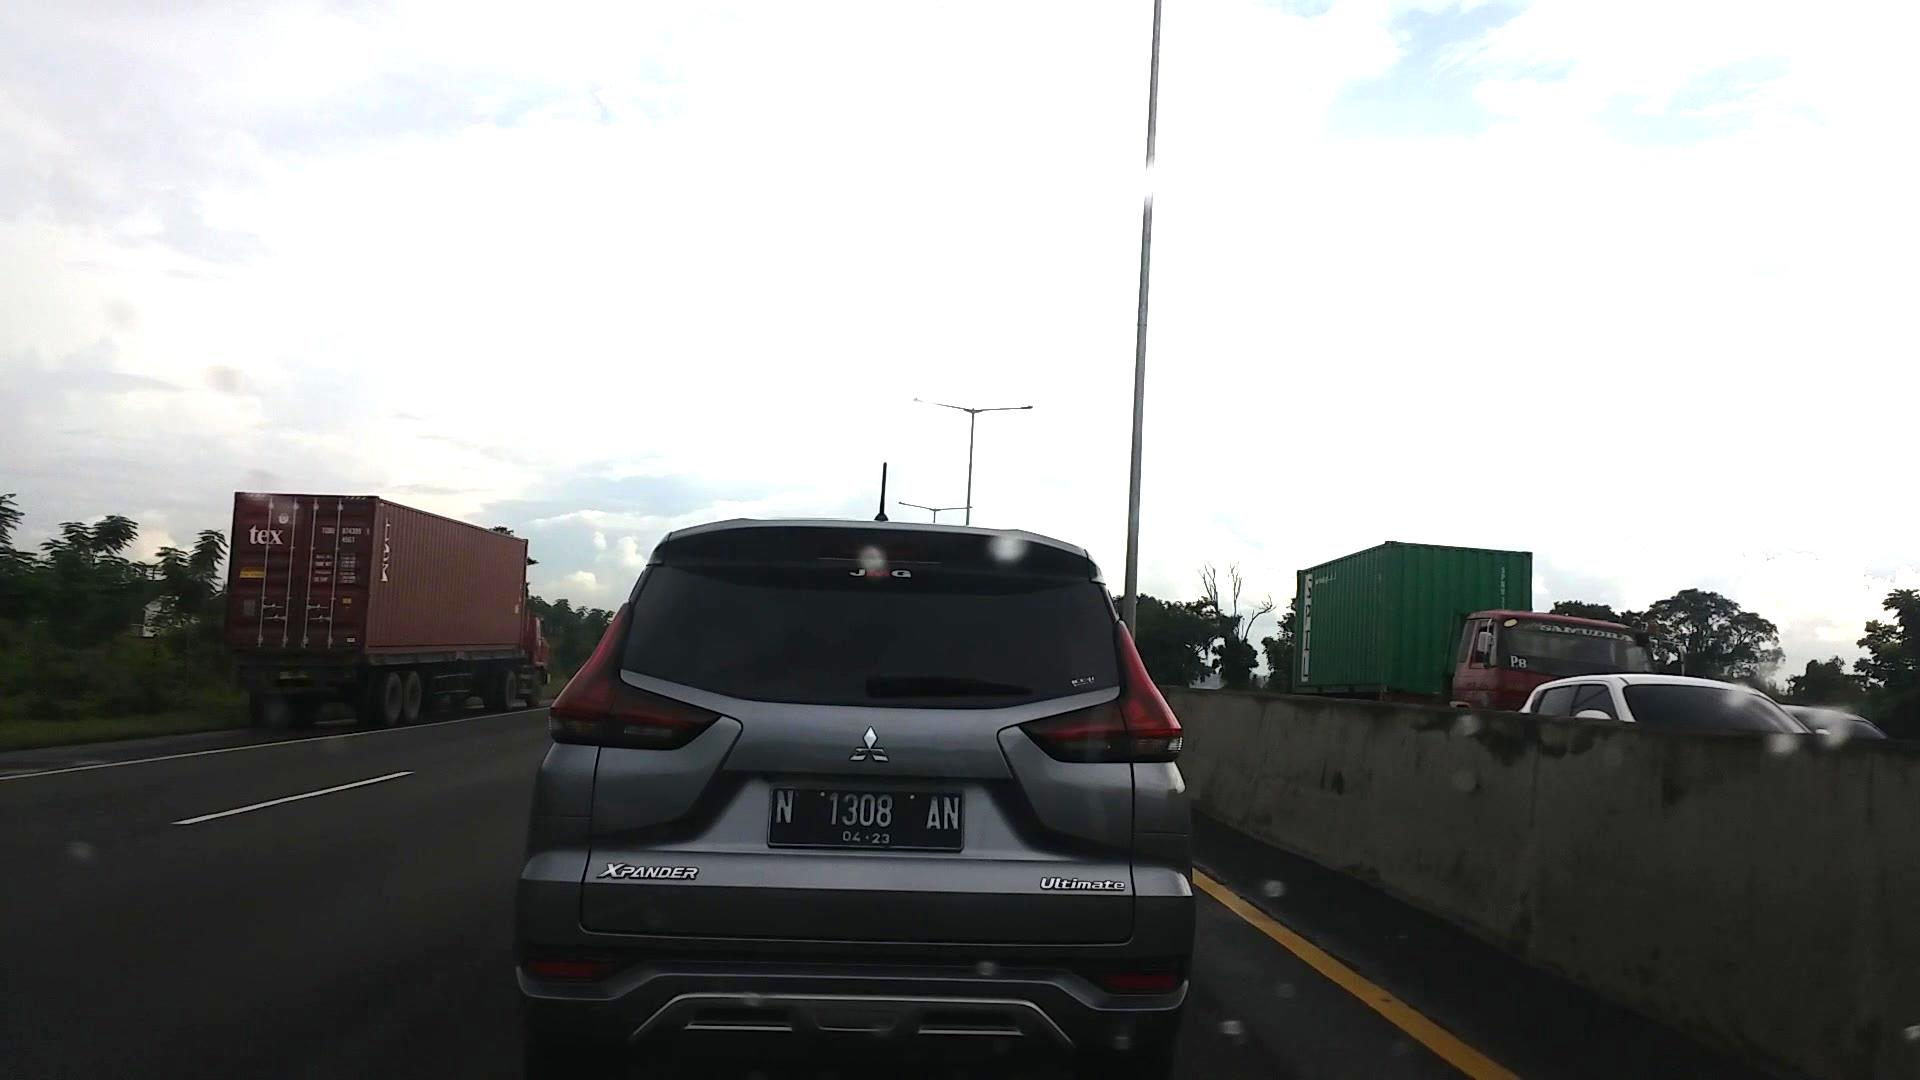plate_positive: (767, 785, 963, 852)
